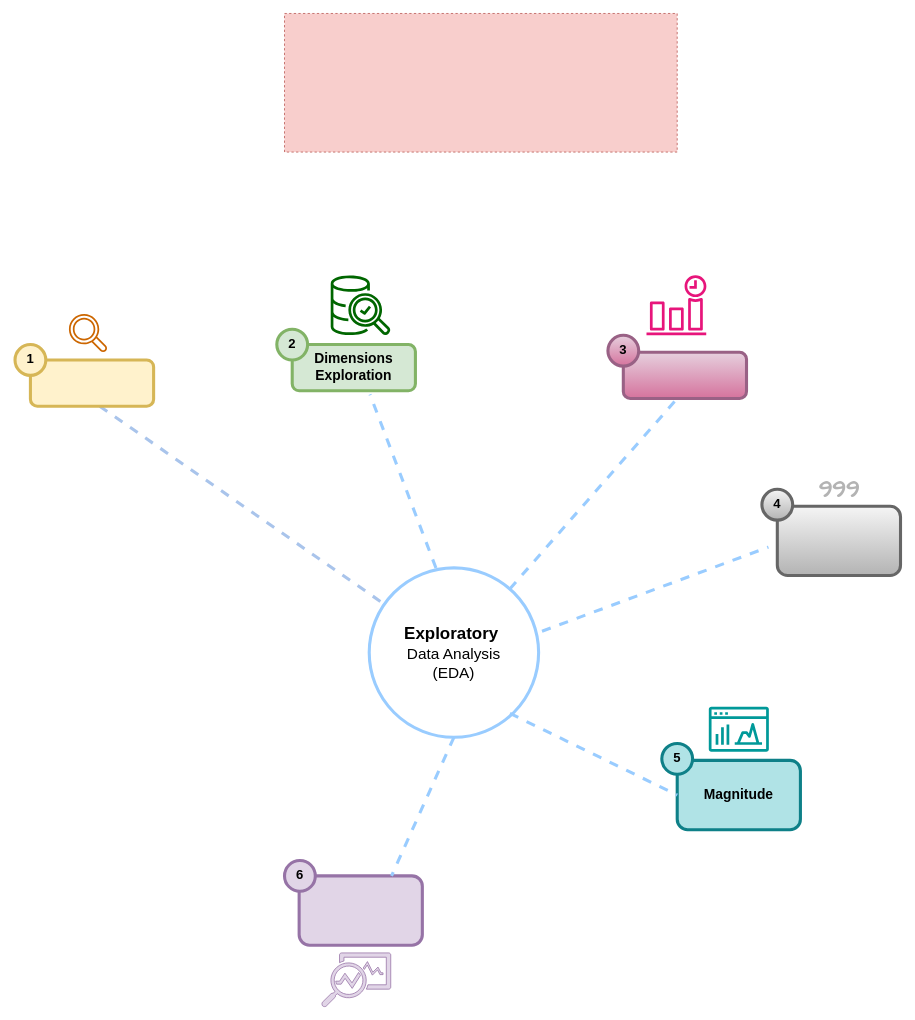
This 915x1020 diagram has some shape labels left out. Each missing label, with the box of its shape:
Database Exploration: (28, 358, 155, 407)
Date Exploration: (621, 350, 748, 400)
Exploratory Data Analysis(EDA) By Mahdi Dehlaghi: (284, 13, 677, 152)
Measures Exploration (big numbers): (775, 504, 902, 577)
Ranking (Top N - Bottem N): (297, 874, 424, 946)
